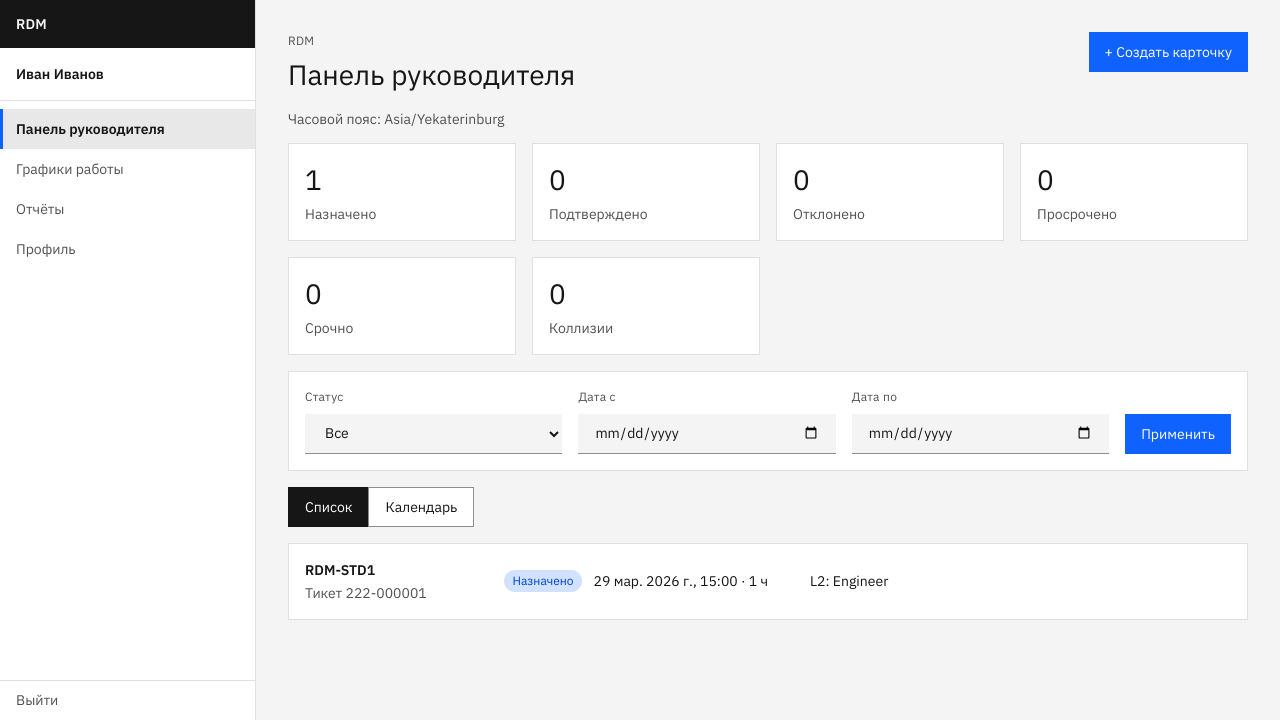
it: FE-03 Profile Timezone in UI › renders standard calendar grid without DST notice for non-DST zones (Asia/Yekaterinburg, Europe/Moscow)
In the date field labelled "Дата с": point(707, 434) [578,414,836,454], type "2026-03-29"
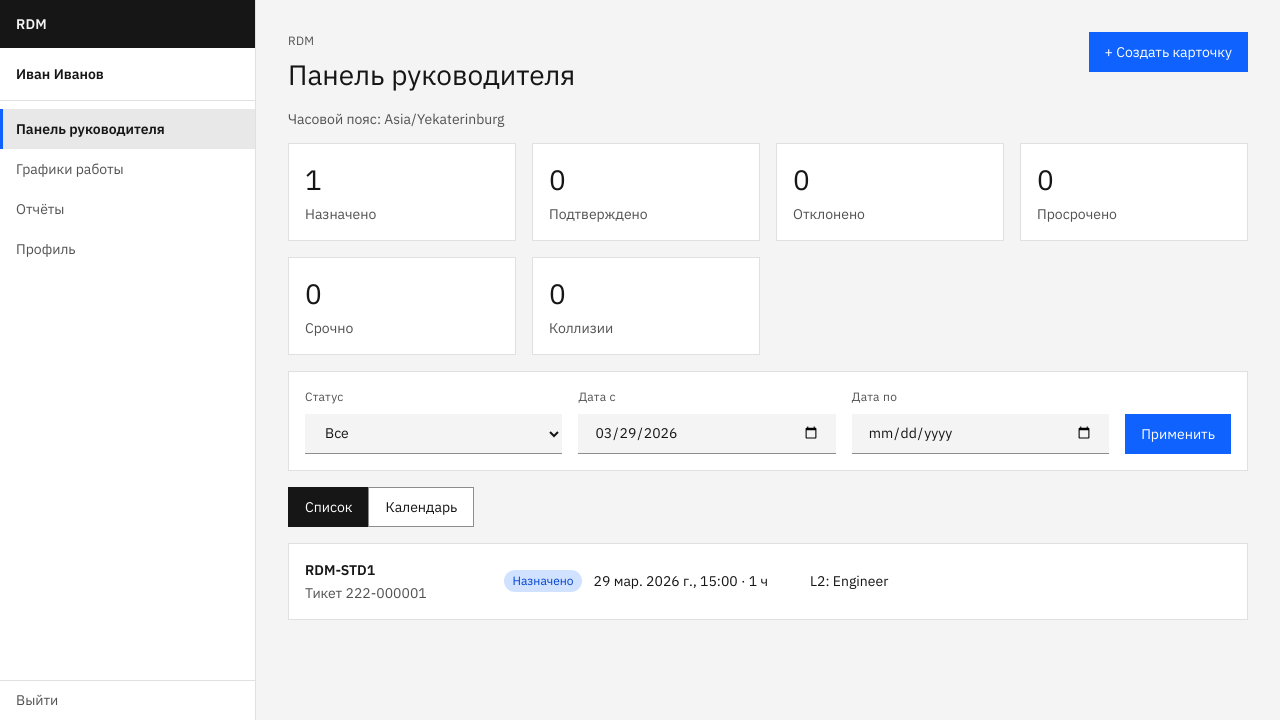
In the date field labelled "Дата по": point(980, 434) [852,414,1109,454], type "2026-03-29"
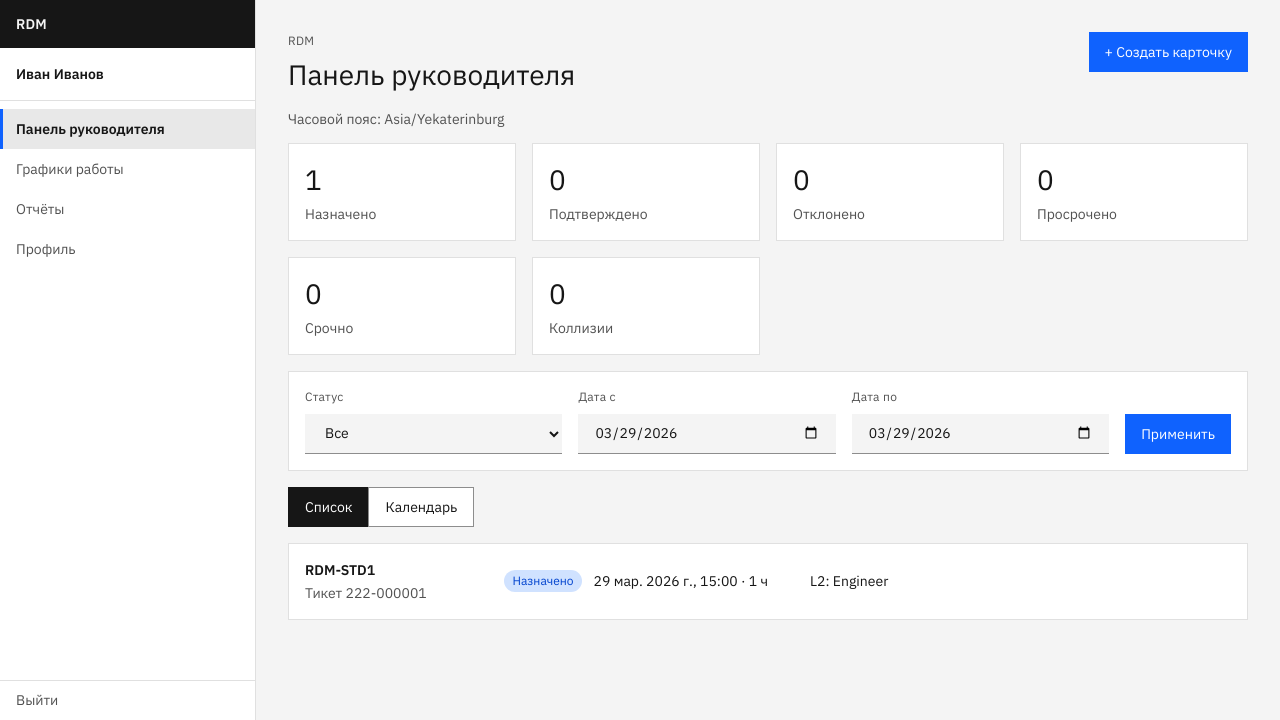
Submit the form with class "manager-filters", box [288,371,1248,471]
# Toggle to calendar view
Click the button "Календарь": point(421, 506) [368,486,474,526]
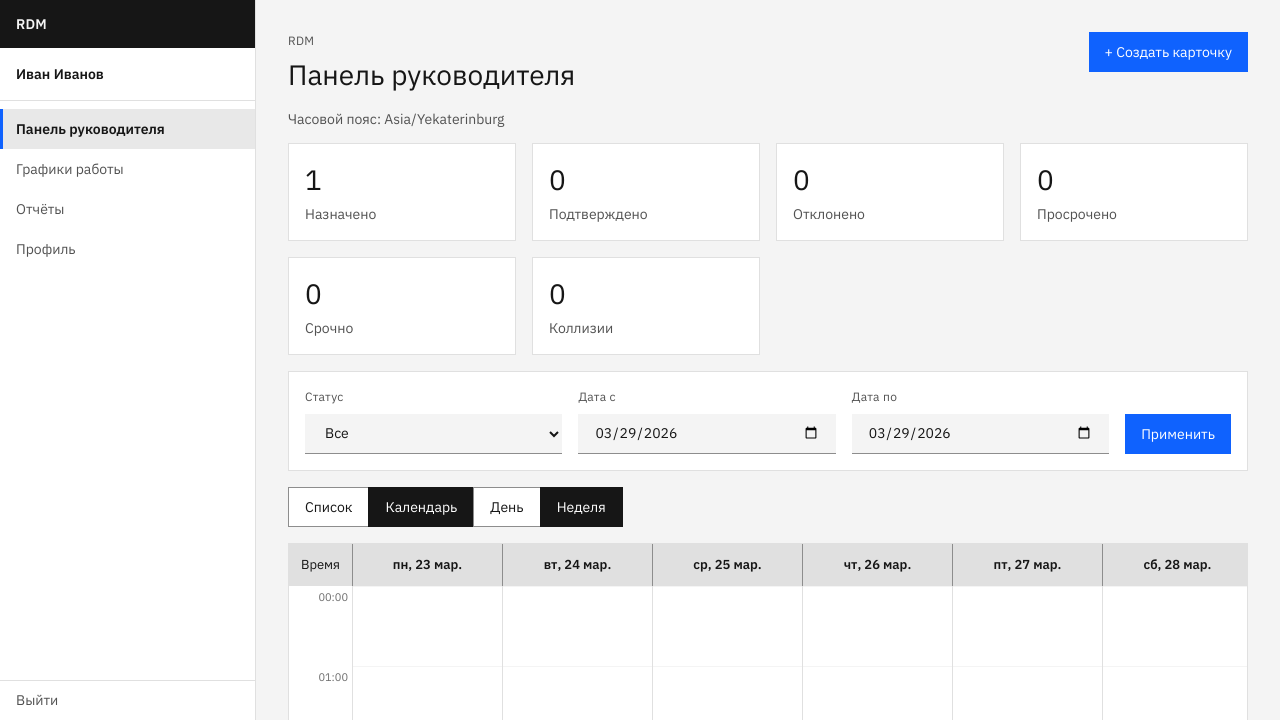
# Switch to day mode
Click the button "День": point(507, 506) [473,486,541,526]
(page scrolled)
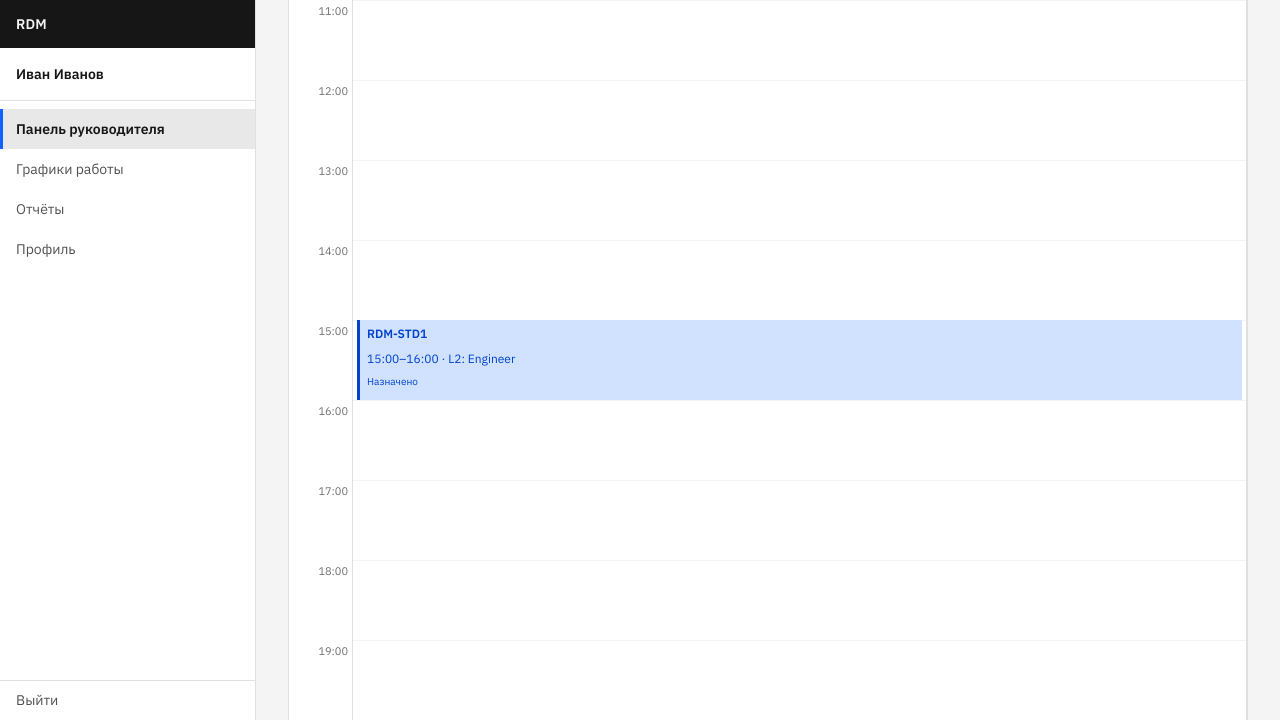
Expected: the link with class "calendar-event" is shown, [357,320,1242,400]
